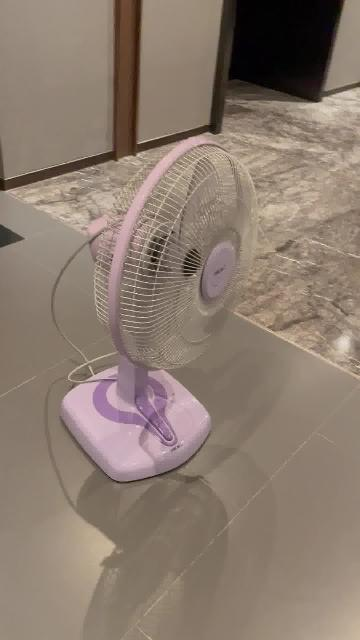Fan: (60, 141, 257, 483)
